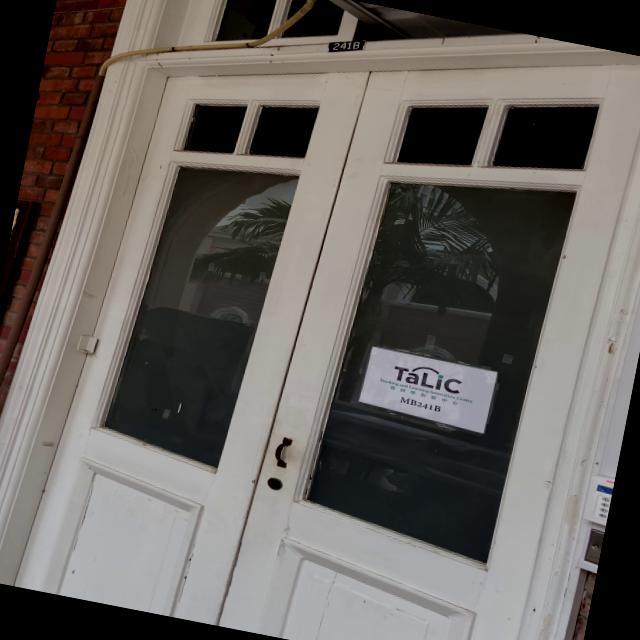room241b: (328, 32, 366, 58)
